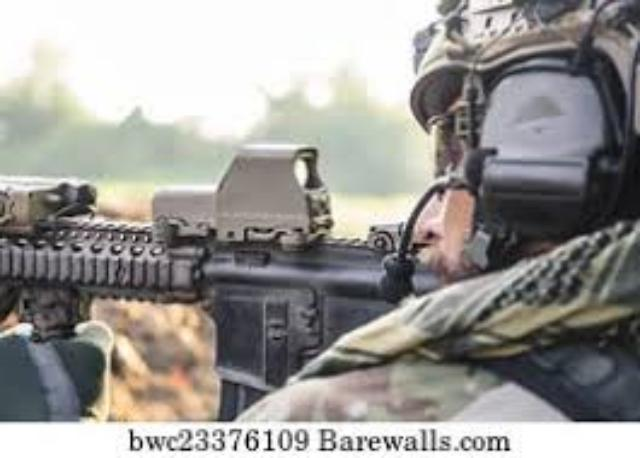other: (6, 11, 639, 456)
